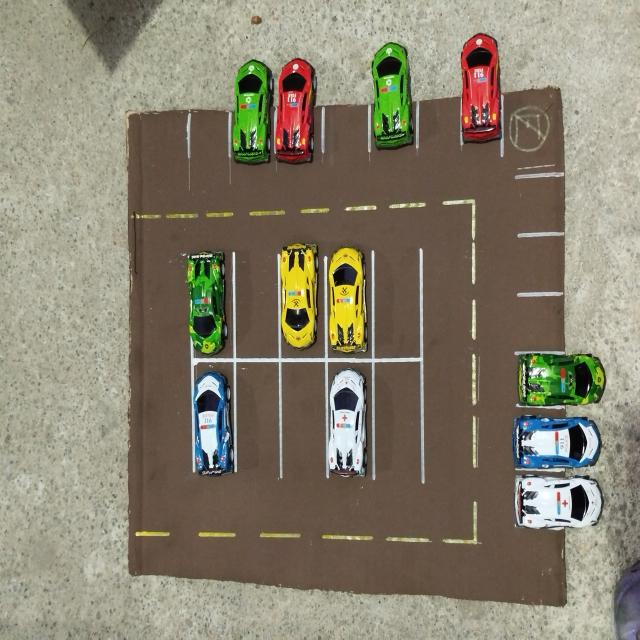libre: (510, 526, 617, 604), (513, 232, 617, 295), (372, 358, 424, 478), (512, 294, 622, 350), (281, 356, 328, 483), (514, 176, 616, 234), (232, 356, 282, 474), (372, 250, 422, 361), (234, 251, 280, 361), (324, 50, 369, 158), (419, 44, 462, 154), (190, 54, 232, 164)
no_estacionarse: (507, 75, 569, 175)
ocupado: (512, 468, 612, 530), (512, 407, 612, 469), (273, 39, 320, 165), (278, 240, 326, 360), (328, 356, 372, 486), (460, 28, 503, 159), (370, 38, 418, 155), (184, 250, 234, 361), (188, 361, 236, 476), (326, 245, 374, 359), (514, 352, 612, 407), (232, 41, 274, 168)
